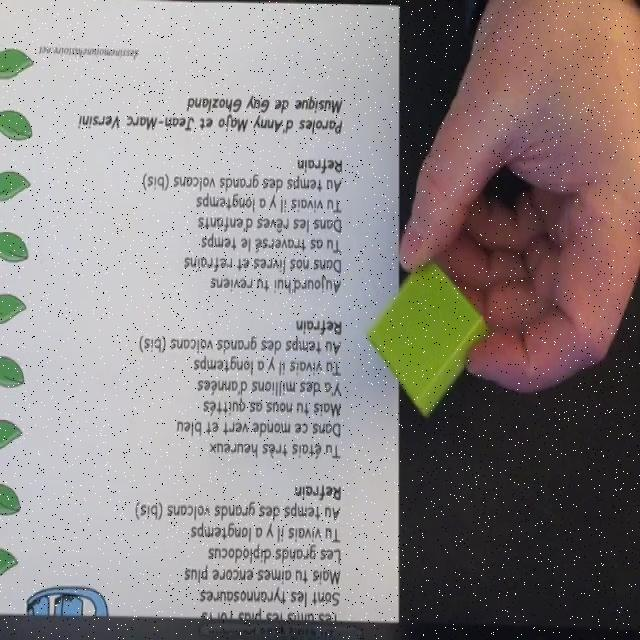square: (365, 257, 490, 418)
